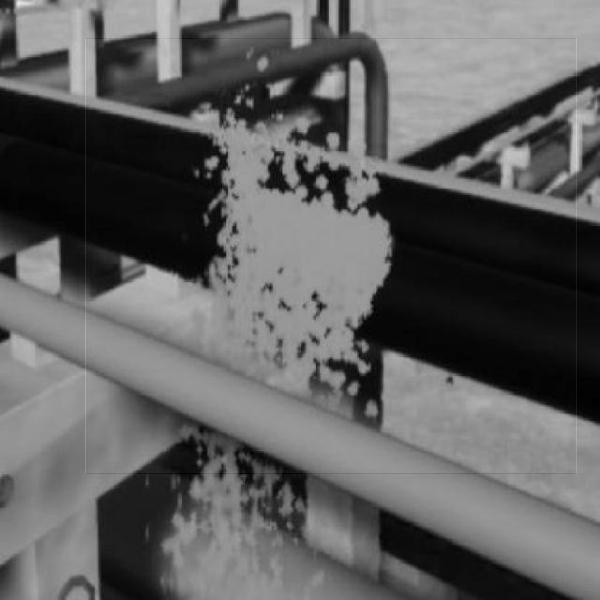water: (86, 38, 576, 474)
